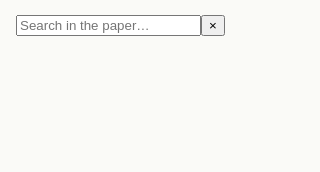
it: says when nothing is found
This screenshot has width=320, height=172.
Type "zzz" into the search field labelled "Search".
click(108, 26); type("zzz")  # box [16, 15, 201, 36]
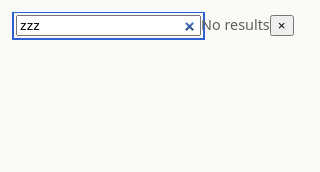
Expected: the text "No results" is shown, [201, 15, 270, 34]
